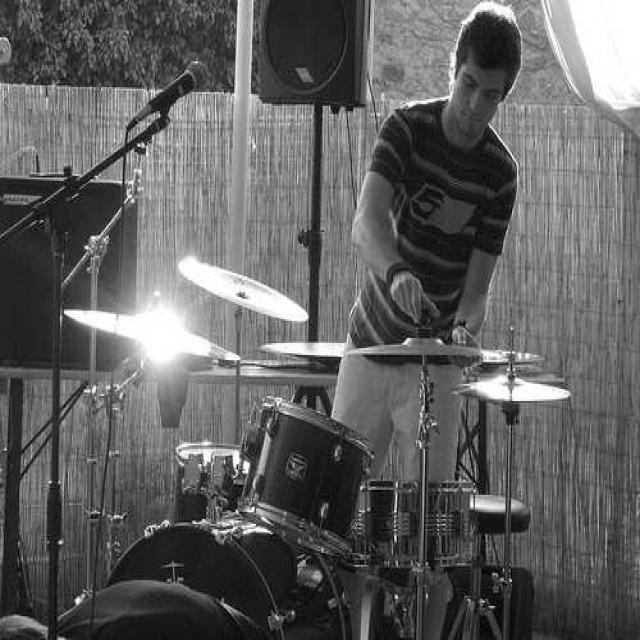microphone: (136, 60, 206, 126)
